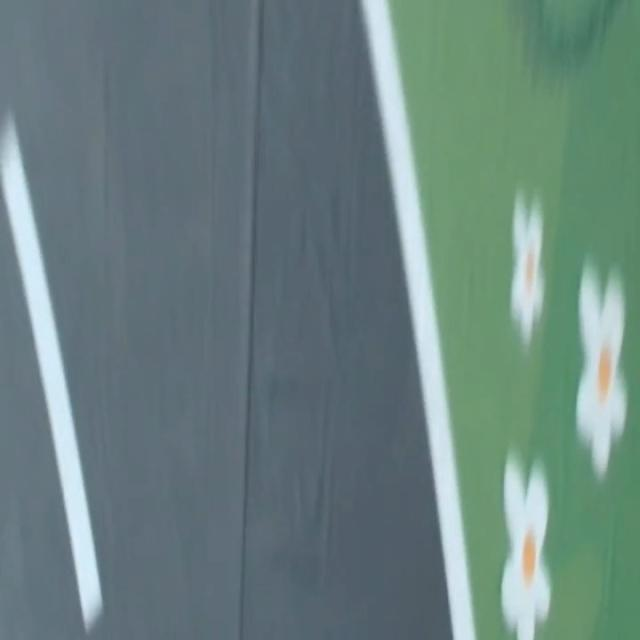center: (0, 116, 102, 630)
right: (361, 0, 476, 639)
